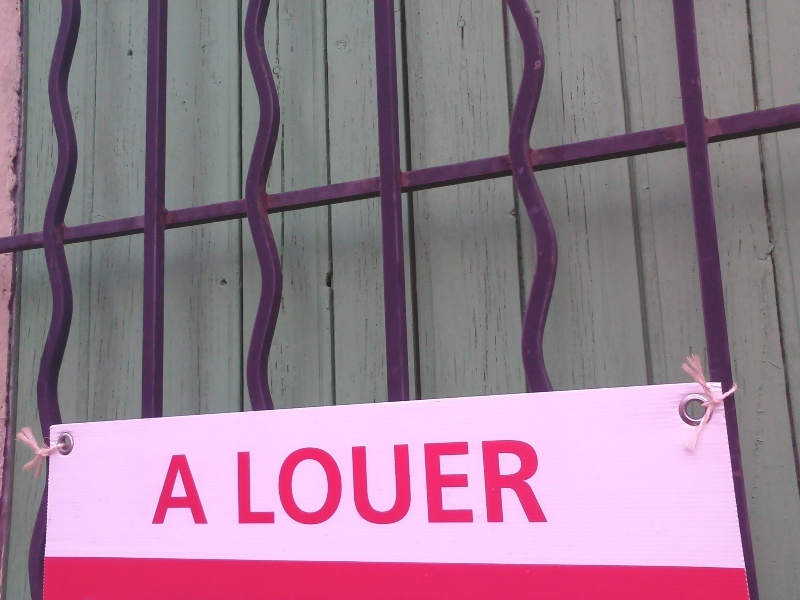text: (241, 437, 256, 527), (257, 437, 272, 527), (273, 437, 288, 527), (289, 437, 304, 527), (305, 437, 320, 527), (321, 437, 336, 527), (337, 437, 352, 527), (353, 437, 368, 527), (369, 437, 384, 527), (385, 437, 400, 527), (401, 437, 416, 527), (417, 437, 432, 527), (433, 437, 448, 527), (449, 437, 464, 527), (465, 437, 480, 527), (481, 437, 496, 527), (497, 437, 512, 527), (513, 437, 528, 527), (529, 437, 544, 527), (193, 455, 209, 526), (177, 455, 192, 526), (233, 437, 240, 527), (545, 437, 551, 527), (171, 455, 176, 526)
